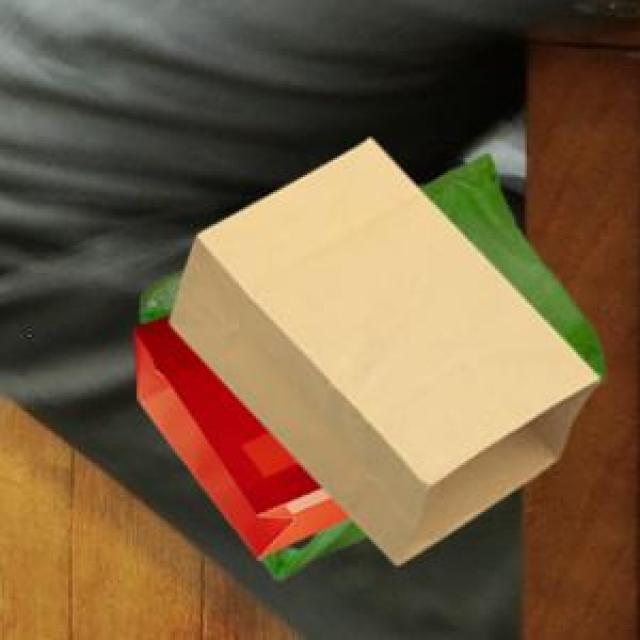paper: (166, 134, 595, 561), (131, 312, 348, 555)
